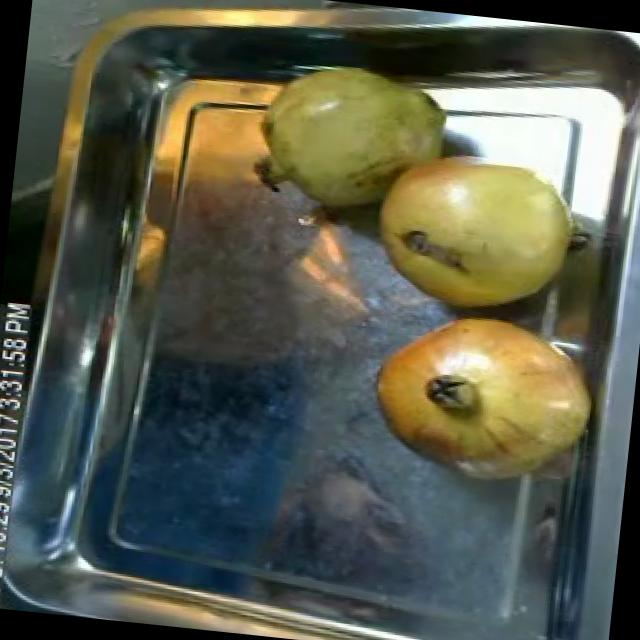fruit: (346, 295, 616, 502), (354, 122, 615, 330), (236, 48, 468, 236)
